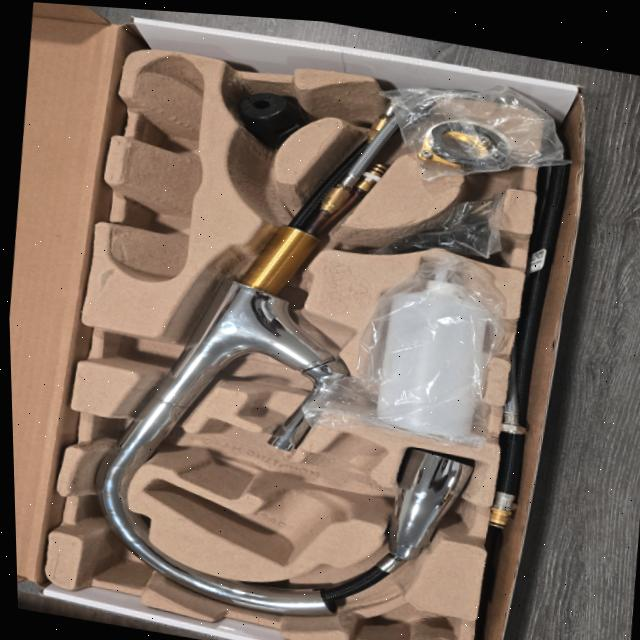1o: (94, 87, 470, 616)
2m: (140, 433, 384, 563)
3: (374, 254, 489, 440)
4m: (107, 54, 203, 283)
5: (235, 90, 303, 147)
6: (378, 81, 570, 184)
7: (368, 191, 506, 255)
